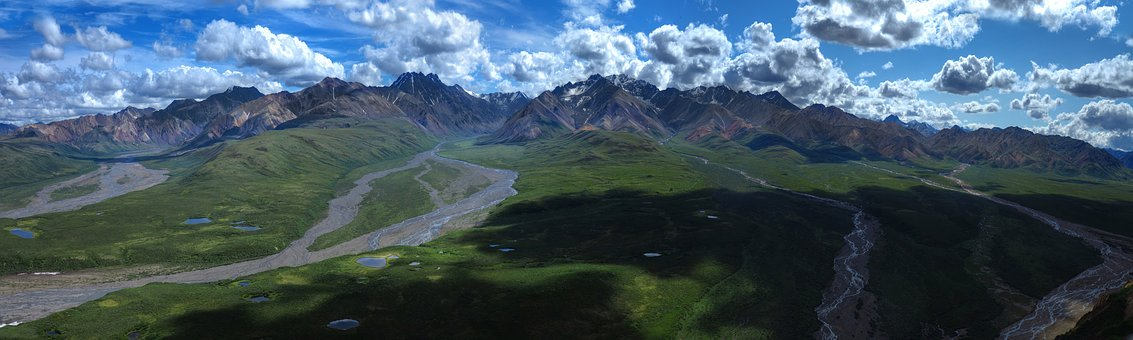mountain: (1, 92, 1133, 333)
sky: (7, 5, 1133, 103)
